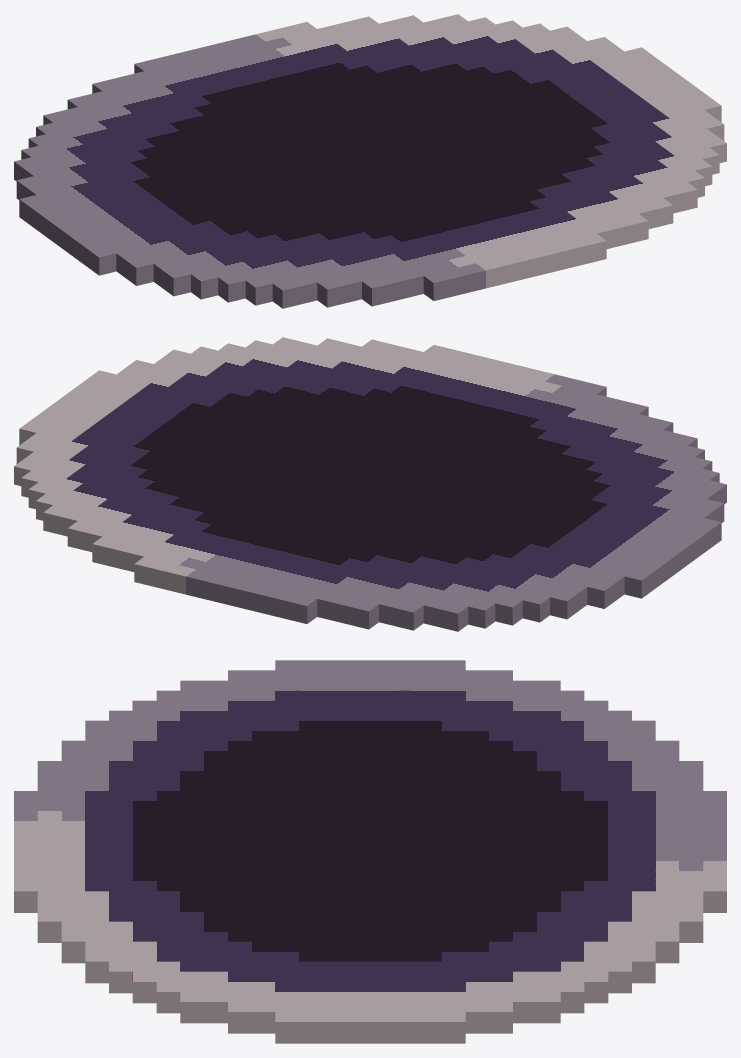
Rendered from rug-door_2.obj.
3 views of the same model, one above another, from view 1: azimuth 30°, elevation 25°; view 2: azimuth 150°, elevation 25°; view 3: azimuth 270°, elevation 25° (orthographic). The views are drawn at different scales.
Visible parts, largest first — view 1: rug-door_2; view 2: rug-door_2; view 3: rug-door_2.
Part boxes in pixels (x1,y1,x2,y2): rug-door_2: (14, 14, 726, 308); rug-door_2: (14, 337, 726, 631); rug-door_2: (14, 660, 726, 1043).
Bounding box in the file's own units: 3.6 × 0.1 × 3.
Materials: 1 (1 with a texture image).
